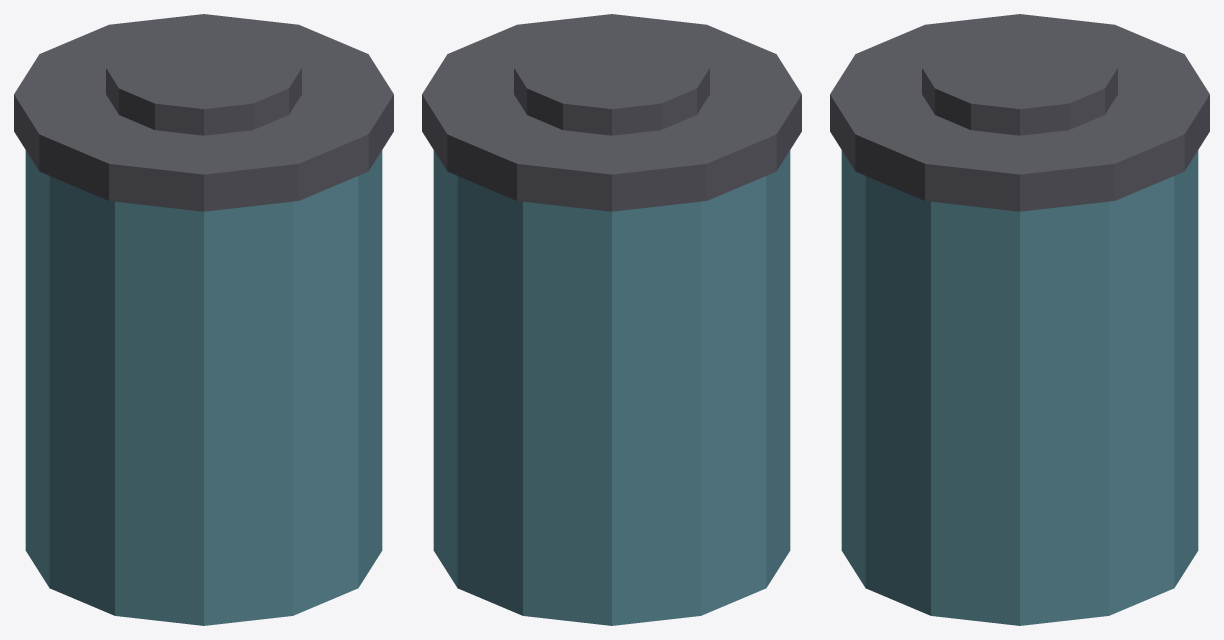
The model's file is mdl_urban_trash_bin_001.glb.
The picture shows the model from 3 angles, left to right: view 1: azimuth 30°, elevation 25°; view 2: azimuth 150°, elevation 25°; view 3: azimuth 270°, elevation 25°; orthographic projection.
Parts seen in each view (by area): view 1: m_petroleo, m_carbon; view 2: m_petroleo, m_carbon; view 3: m_petroleo, m_carbon.
Boxes of the visible parts, x1=… form: m_petroleo: x1=25, y1=150, x2=382, y2=625; m_carbon: x1=14, y1=14, x2=393, y2=211; m_petroleo: x1=433, y1=150, x2=790, y2=625; m_carbon: x1=422, y1=14, x2=801, y2=211; m_petroleo: x1=841, y1=150, x2=1198, y2=625; m_carbon: x1=830, y1=14, x2=1209, y2=211.
Bounding box in the file's own units: 0.649 × 0.91 × 0.649.
